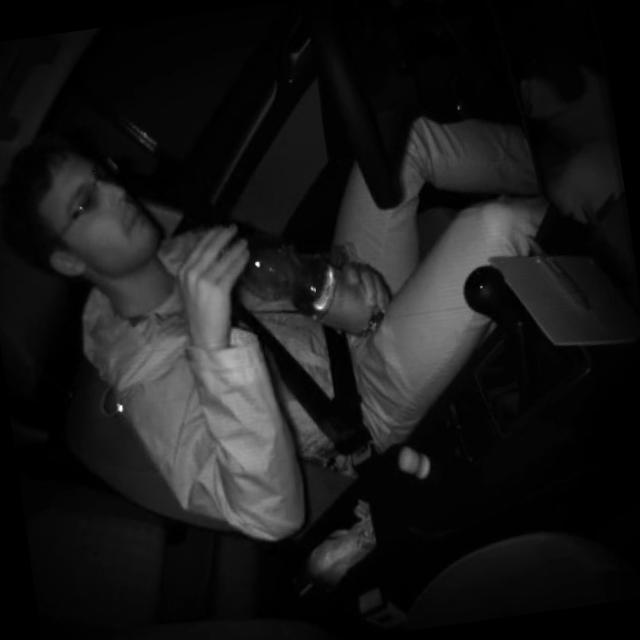pen: (522, 224, 588, 316)
